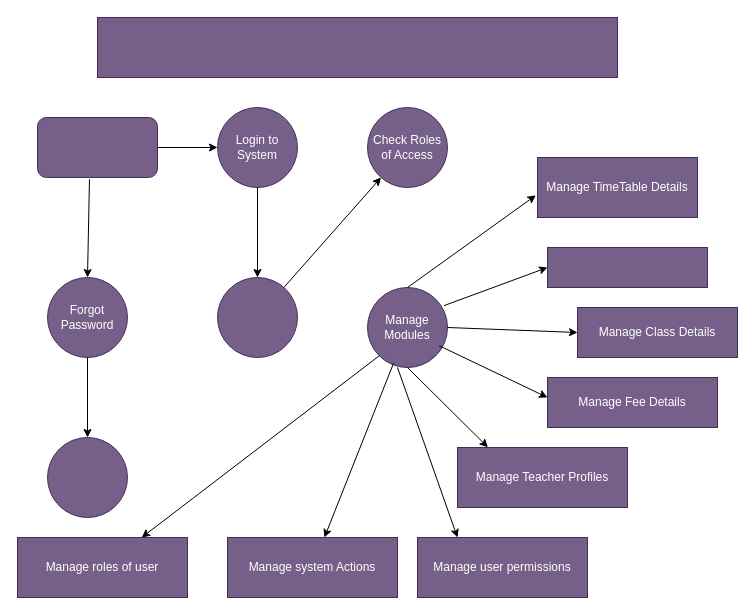
Image size: 755x615. Some labels were removed from this diagram. Each missing label, with the box of its shape:
Admin: (36, 116, 158, 178)
Check Credentials: (216, 276, 298, 358)
Manage Student Details: (546, 246, 708, 288)
Send Email To User: (46, 436, 128, 518)
STUDENT INFORMATION SYSTEM: (96, 16, 618, 78)
